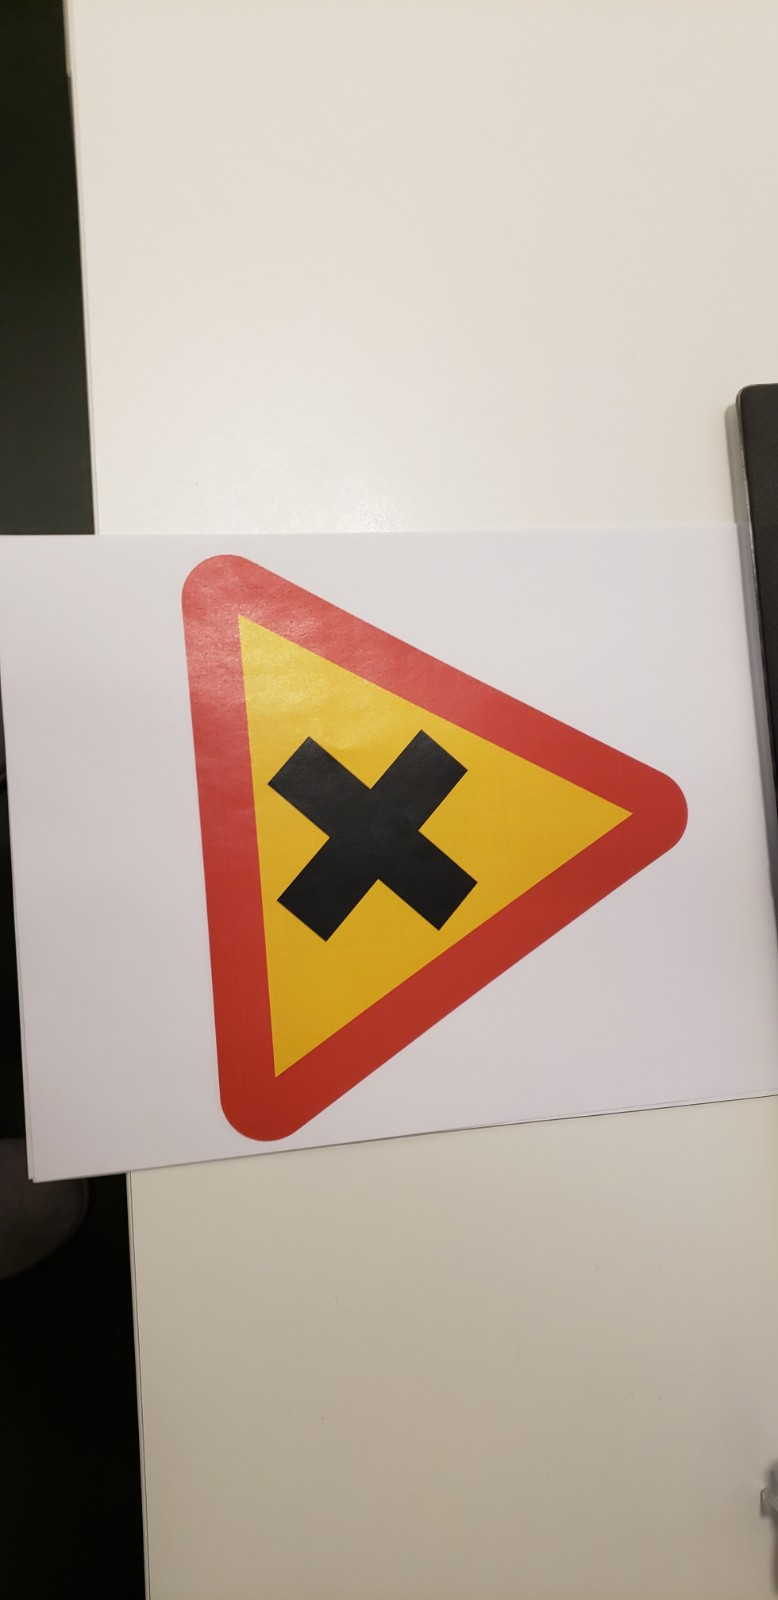junction: (164, 558, 706, 1211)
